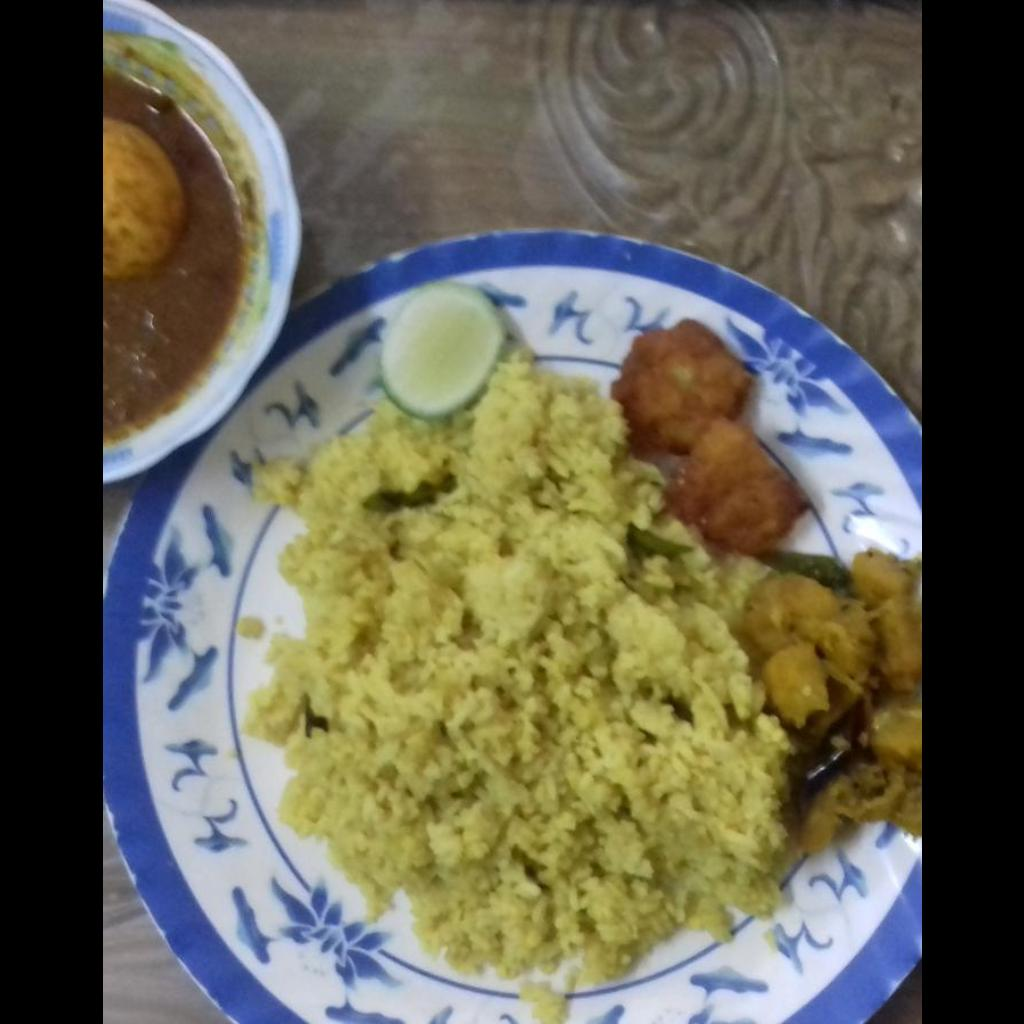egg-boiled: (102, 118, 184, 279)
kabab: (611, 320, 805, 558)
khichuri: (244, 350, 787, 999)
lemon: (378, 281, 512, 420)
vorta: (737, 550, 920, 851)
